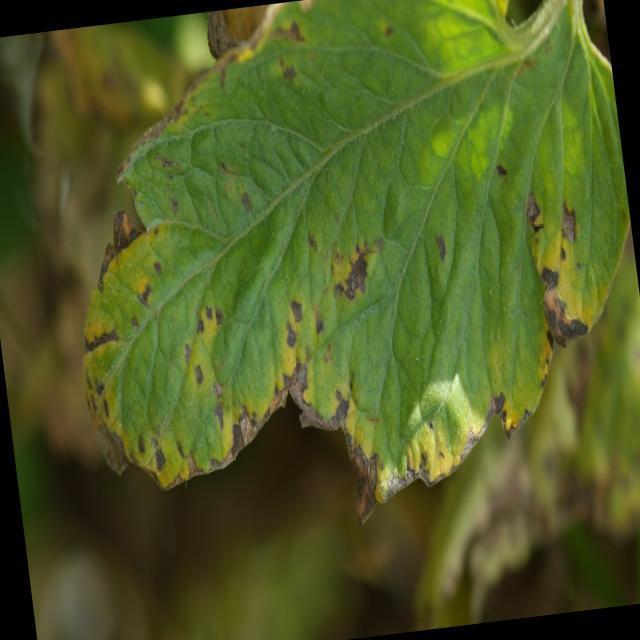Bacterial Spot: (95, 223, 402, 408), (506, 164, 606, 370)
